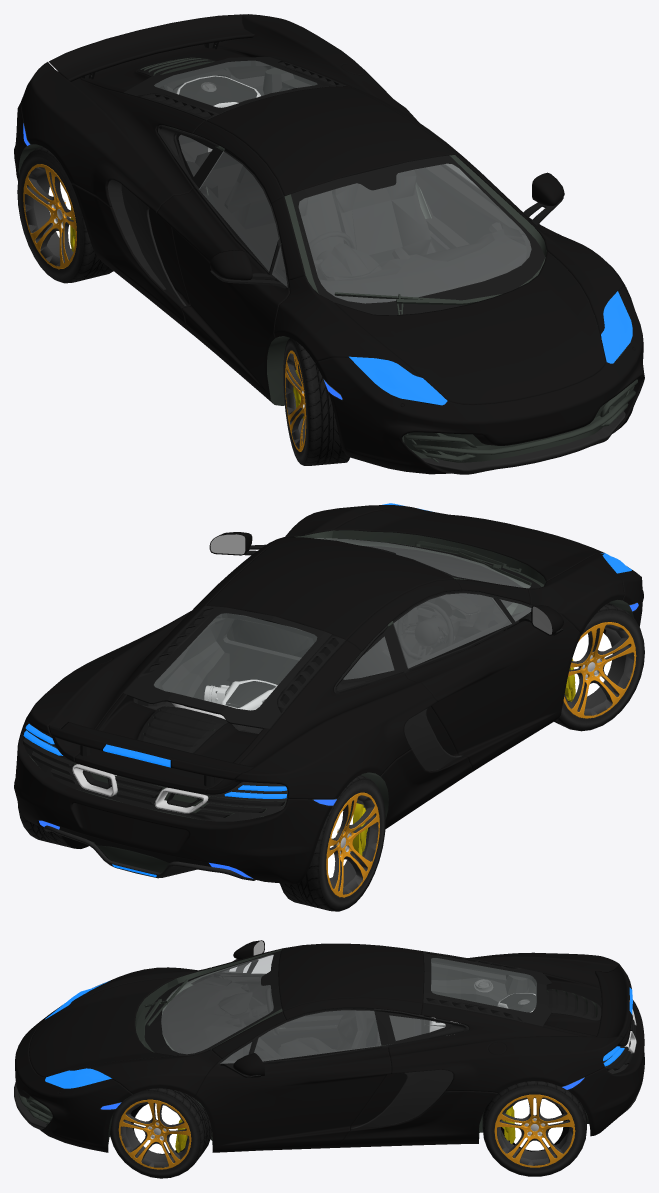
3 views of the same model, one above another, from view 1: azimuth 30°, elevation 25°; view 2: azimuth 150°, elevation 25°; view 3: azimuth 270°, elevation 25° (orthographic). The views are drawn at different scales.
Parts seen in each view (by area): view 1: object.016_Material.005_0, object.032_object.069, object.000_object.074, object.009_object.067, object.005_Material.007_0, wheel.001_object.008, object.015_object.047, object.004_object.057, wheel.000_object.002, object.027_object.068, object.017_object.066, object.003_grill_0; view 2: object.016_Material.005_0, object.032_object.069, object.009_object.067, object.015_object.047, object.000_object.074, wheel.001_object.008, wheel.000_object.002, object.005_Material.007_0, object.004_object.057, object.017_object.066, object.027_object.068, object.001_object.065 (+3 smaller); view 3: object.016_Material.005_0, object.032_object.069, object.000_object.074, object.009_object.067, wheel.003_object.010, wheel.002_object, object.015_object.047, object.005_Material.007_0, object.004_object.057, object.027_object.068, object.017_object.066.
Boxes of the visible parts, box(x1,y1,x2,y2) form: object.016_Material.005_0: box(14, 14, 644, 474); object.032_object.069: box(154, 61, 531, 303); object.000_object.074: box(185, 151, 531, 303); object.009_object.067: box(123, 57, 563, 315); object.005_Material.007_0: box(18, 57, 637, 462); wheel.001_object.008: box(17, 147, 113, 283); object.015_object.047: box(121, 66, 625, 474); object.004_object.057: box(49, 14, 254, 81); wheel.000_object.002: box(283, 338, 349, 465); object.027_object.068: box(349, 291, 632, 405); object.017_object.066: box(176, 75, 260, 152); object.003_grill_0: box(107, 128, 178, 289); object.016_Material.005_0: box(14, 505, 643, 884); object.032_object.069: box(154, 538, 531, 709); object.009_object.067: box(23, 539, 562, 817); object.015_object.047: box(24, 616, 462, 880); object.000_object.074: box(226, 546, 522, 682); wheel.001_object.008: box(280, 775, 385, 911); wheel.000_object.002: box(554, 603, 644, 731); object.005_Material.007_0: box(25, 530, 637, 872); object.004_object.057: box(48, 722, 253, 786); object.017_object.066: box(172, 679, 277, 719); object.027_object.068: box(23, 503, 631, 877); object.001_object.065: box(72, 764, 208, 813); object.016_Material.005_0: box(15, 940, 644, 1152); object.032_object.069: box(161, 954, 536, 1063); object.000_object.074: box(161, 976, 429, 1064); object.009_object.067: box(144, 950, 635, 1077); wheel.003_object.010: box(482, 1081, 586, 1176); wheel.002_object: box(110, 1088, 211, 1178); object.015_object.047: box(14, 961, 638, 1129); object.005_Material.007_0: box(18, 949, 631, 1147); object.004_object.057: box(595, 965, 632, 1038); object.027_object.068: box(45, 981, 624, 1088); object.017_object.066: box(429, 979, 535, 1032).
Size of the model in its own units: 5.14 by 2.98 by 10.74.
31 materials, 1 textured.
